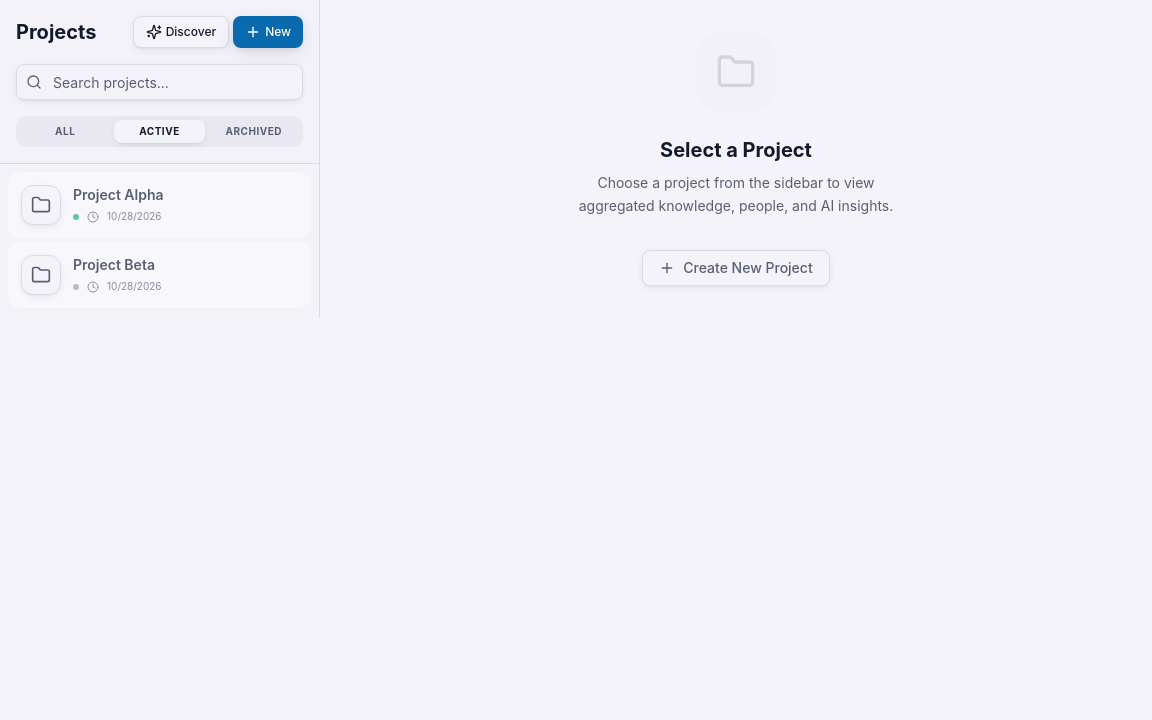
Scenario: Projects Page › renders a neutral empty state (not "Discovered automatically") for a manual project with tagged meetings
What coordinates should you click on to do the following:
click the text "Project Alpha"
I would click on:
 (118, 194)
Its box is [73,186,164,203].
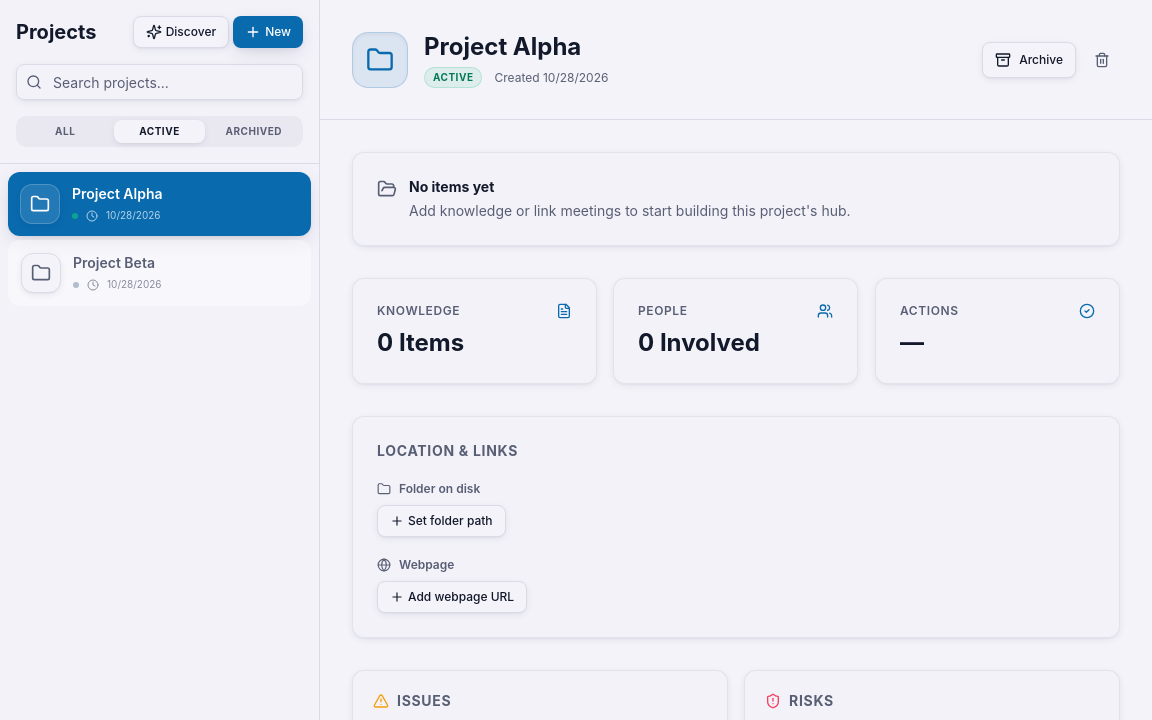
Now the heading "No items yet" is shown, box [409,178,494,195]
Now the text "Add knowledge or link meetings" is shown, box [409,202,851,219]
